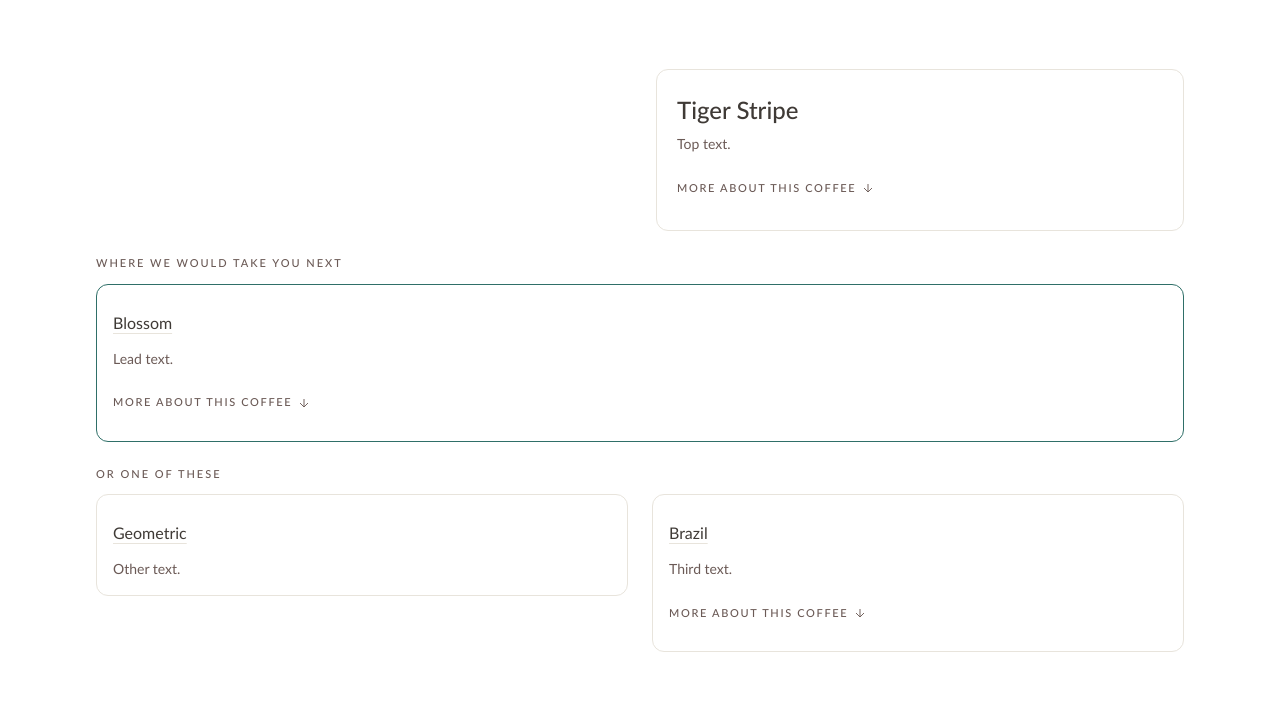
Test: /map: one panel open at a time, beneath its card › phone: the top card and each step card carry the button; opening one closes the other; the panel stays inside its card
Expected: the button with test id "more-about-button" below "Lead text." is shown, x1=113 y1=380 x2=310 y2=424
Expected: the button with test id "more-about-button" below "Third text." is shown, x1=669 y1=591 x2=866 y2=635
Click the button with test id "more-about-button" below "Top text." at coordinates (776, 188), box x1=677 y1=166 x2=874 y2=210
(page scrolled)
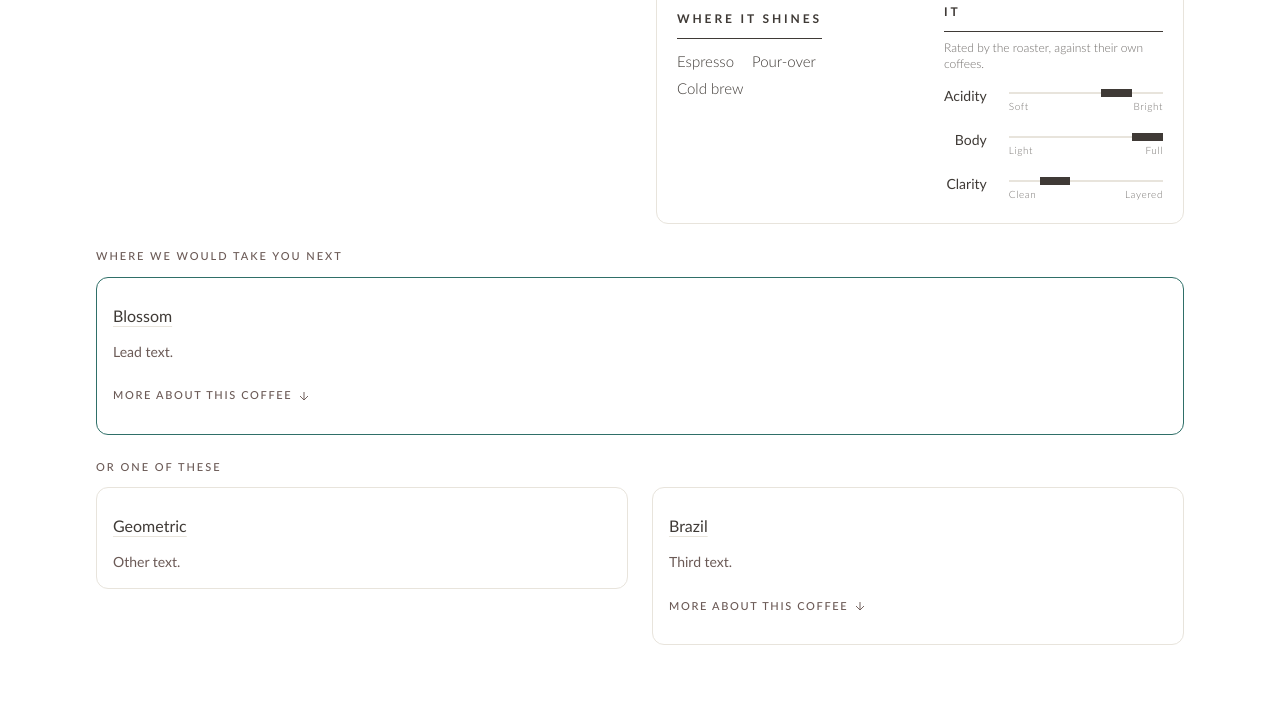
Click the button with test id "more-about-button" below "Lead text." at coordinates (212, 396), box x1=113 y1=374 x2=310 y2=418
(page scrolled)
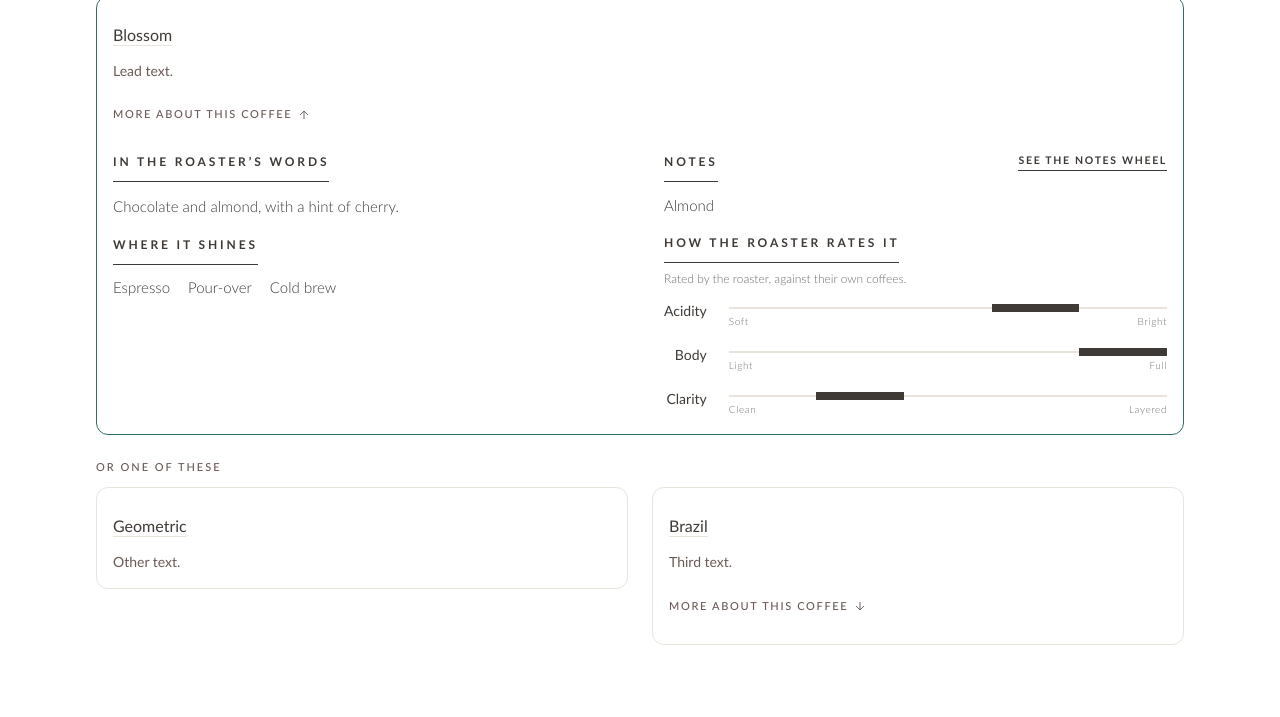
Now the element with test id "field-reveal" is shown, box x1=113 y1=136 x2=1167 y2=418
Click the button with test id "more-about-button" below "Lead text." at coordinates (212, 114), box x1=113 y1=92 x2=310 y2=136
(page scrolled)
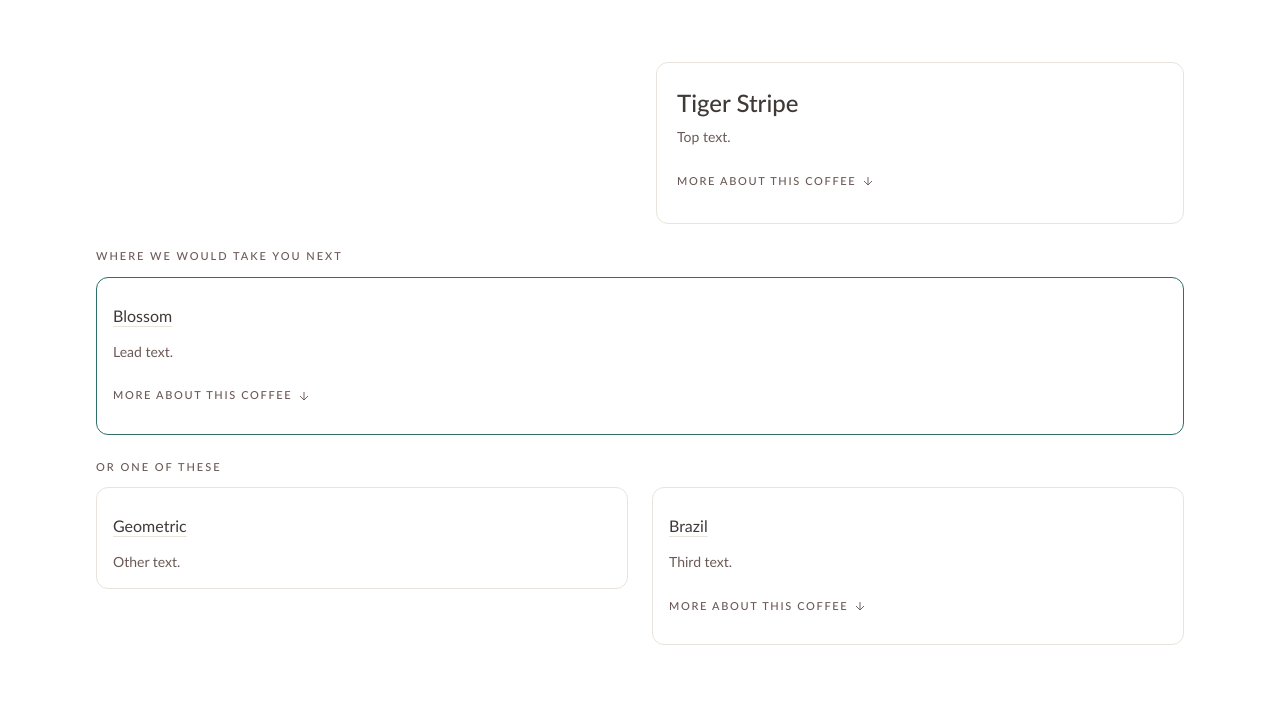
Now the element with test id "field-reveal" is gone
